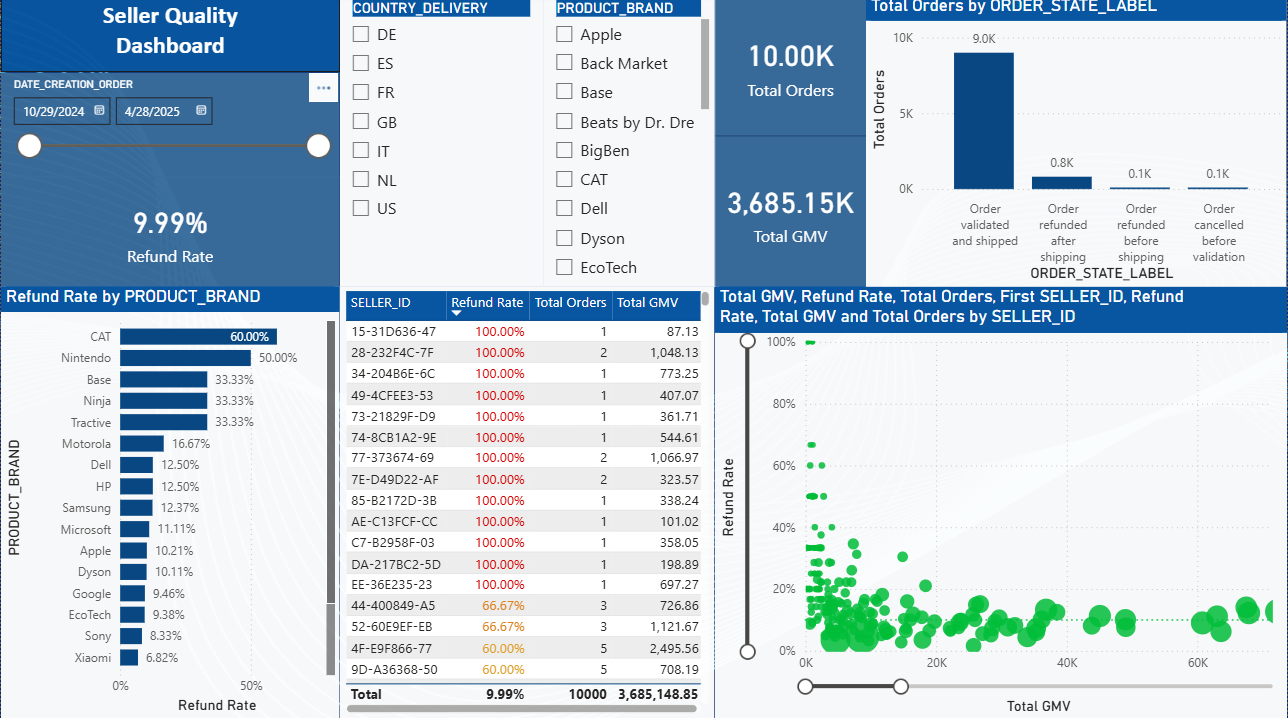

This screenshot's page, from the dashboard's own definition file:
{"tool":"powerbi","page":{"name":"Seller Quality Dashboard","canvas":[1280,720],"ordinal":3},"visuals":[{"type":"card","fields":{"Values":["dim_products.Refund Rate"]},"box":[0,180,337.1,110],"z":0},{"type":"card","fields":{"Values":["dim_products.Total GMV"]},"box":[710,140,151.4,150],"z":1000},{"type":"card","fields":{"Values":["dim_products.Total Orders"]},"box":[710,0,151.4,140],"z":2000},{"type":"tableEx","fields":{"Values":["fact_orders.SELLER_ID","dim_products.Refund Rate","dim_products.Total Orders","dim_products.Total GMV"]},"box":[337.1,290,372.9,430],"z":3000},{"type":"clusteredBarChart","fields":{"Y":["dim_products.Refund Rate"],"Category":["dim_products.PRODUCT_BRAND"]},"box":[0,290,337.1,430],"z":4000},{"type":"scatterChart","fields":{"X":["dim_products.Total GMV"],"Y":["dim_products.Refund Rate"],"Category":["fact_orders.SELLER_ID"],"Size":["dim_products.Total Orders"]},"box":[710,290,570,430],"z":5000},{"type":"slicer","fields":{"Values":["dim_products.PRODUCT_BRAND"]},"box":[540,0,170,290],"z":6000},{"type":"slicer","fields":{"Values":["fact_orders.COUNTRY_DELIVERY"]},"box":[337.1,0,202.9,290],"z":7000},{"type":"columnChart","fields":{"Category":["fact_orders.ORDER_STATE_LABEL"],"Y":["dim_products.Total Orders"]},"box":[861.4,0,418.6,290],"z":8000},{"type":"slicer","fields":{"Values":["fact_orders.DATE_CREATION_ORDER"]},"box":[0,77.1,337.1,104.3],"z":9000},{"type":"textbox","box":[0,0,337.1,77.1],"z":10000}]}

Visuals, with their boxes in screenshot pixels (x1, y1, x2, y2), scaled from the page's 1280x720 canvas onto the 1288x718 screenshot:
card - dim_products.Refund Rate: bbox=[0, 180, 339, 289]
card - dim_products.Total GMV: bbox=[714, 140, 867, 289]
card - dim_products.Total Orders: bbox=[714, 0, 867, 140]
tableEx - fact_orders.SELLER_ID x dim_products.Refund Rate: bbox=[339, 289, 714, 717]
clusteredBarChart - dim_products.Refund Rate x dim_products.PRODUCT_BRAND: bbox=[0, 289, 339, 717]
scatterChart - dim_products.Total GMV x dim_products.Refund Rate: bbox=[714, 289, 1287, 717]
slicer - dim_products.PRODUCT_BRAND: bbox=[543, 0, 714, 289]
slicer - fact_orders.COUNTRY_DELIVERY: bbox=[339, 0, 543, 289]
columnChart - fact_orders.ORDER_STATE_LABEL x dim_products.Total Orders: bbox=[867, 0, 1287, 289]
slicer - fact_orders.DATE_CREATION_ORDER: bbox=[0, 77, 339, 181]
textbox: bbox=[0, 0, 339, 77]
